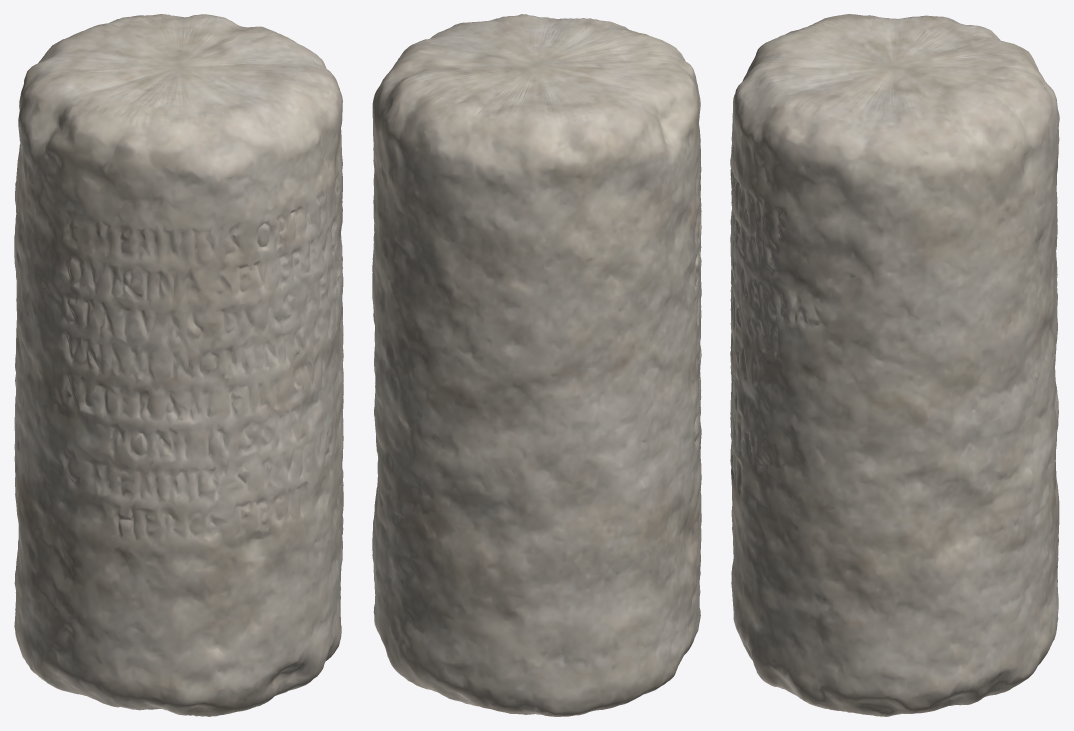
The model's file is 17_CIPO_severvs.glb.
3 renders of one model, left to right at view 1: azimuth 30°, elevation 25°; view 2: azimuth 150°, elevation 25°; view 3: azimuth 270°, elevation 25°, orthographic.
Visible parts, largest first — view 1: MEMIVS_SEVERVS_LP; view 2: MEMIVS_SEVERVS_LP; view 3: MEMIVS_SEVERVS_LP.
Part boxes in pixels (x1,y1,x2,y2): MEMIVS_SEVERVS_LP: [14, 14, 343, 716]; MEMIVS_SEVERVS_LP: [372, 14, 701, 716]; MEMIVS_SEVERVS_LP: [730, 14, 1059, 716].
Bounding box in the file's own units: 0.4571 × 0.919 × 0.4572.
1 material, 1 textured.
